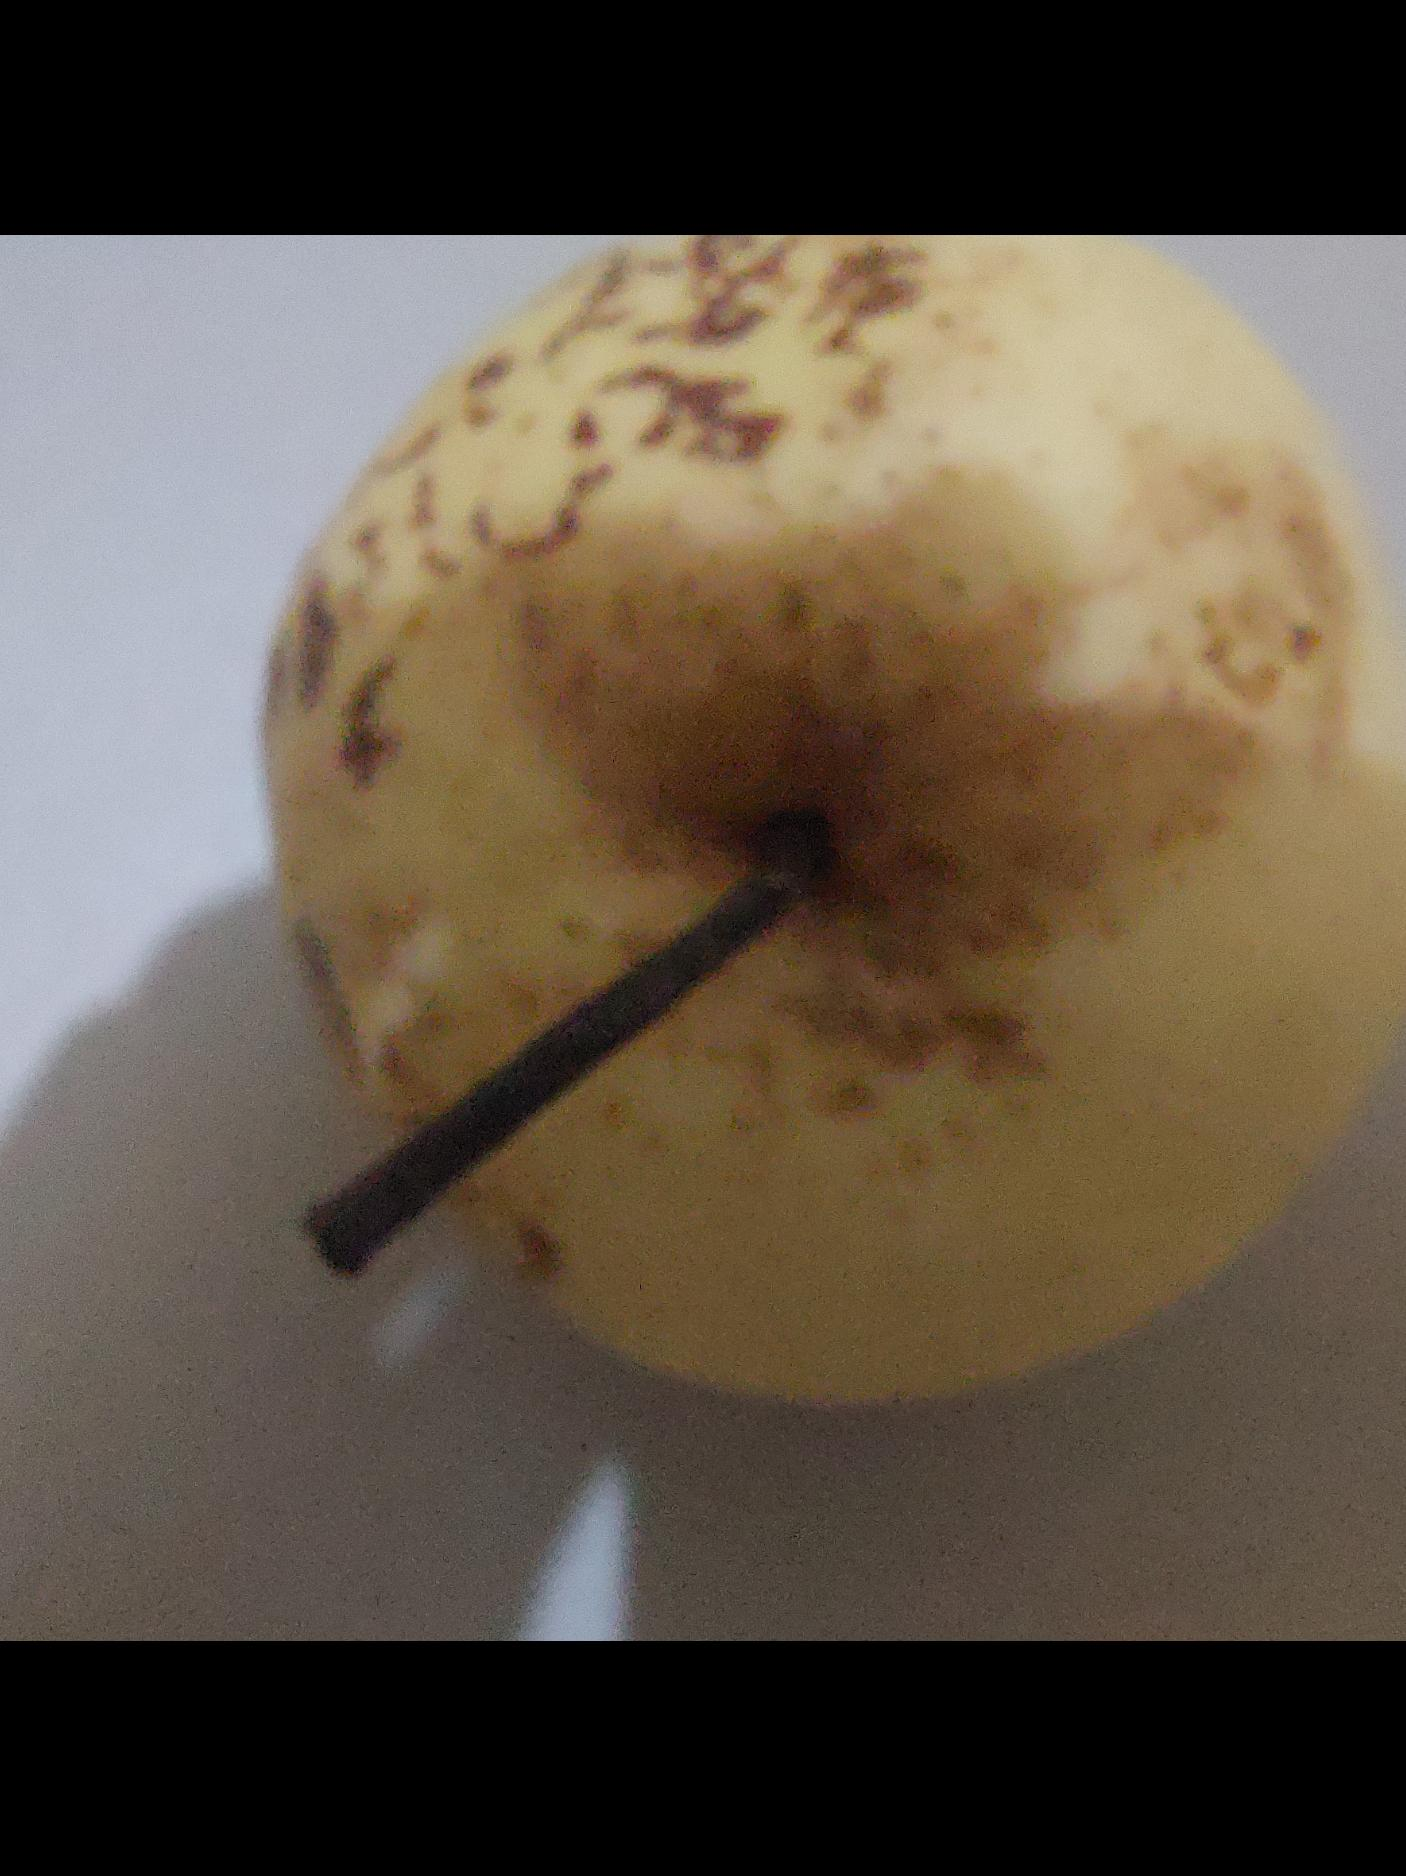Bad Pear: (213, 235, 1406, 1513)
